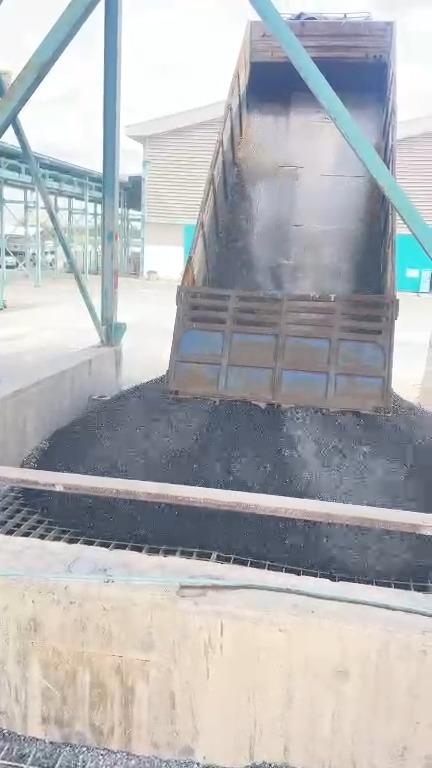gravel: (35, 381, 431, 511), (26, 492, 431, 580), (0, 730, 201, 767)
